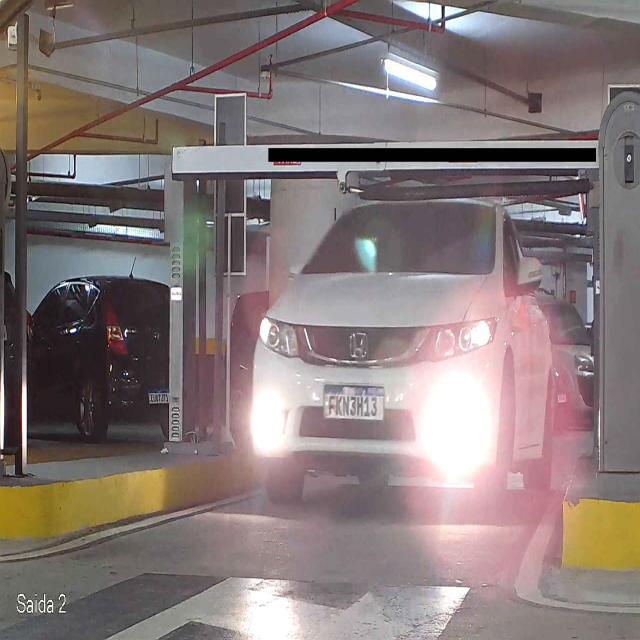mercosul_plate: (320, 383, 388, 422)
